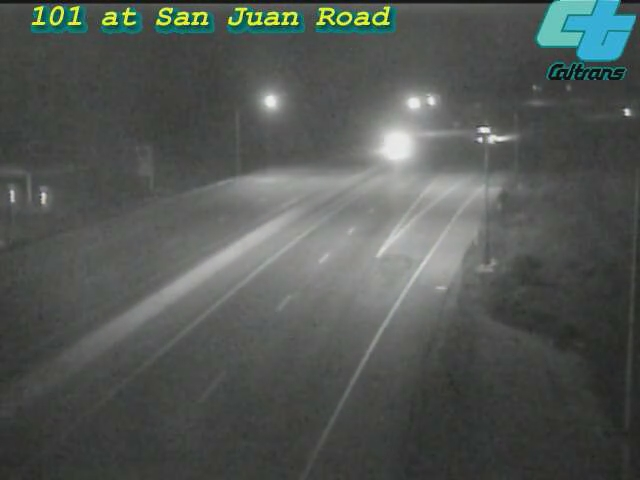vehicle: (369, 120, 419, 170), (468, 109, 518, 159)
